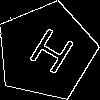H: (21, 26, 77, 85)
